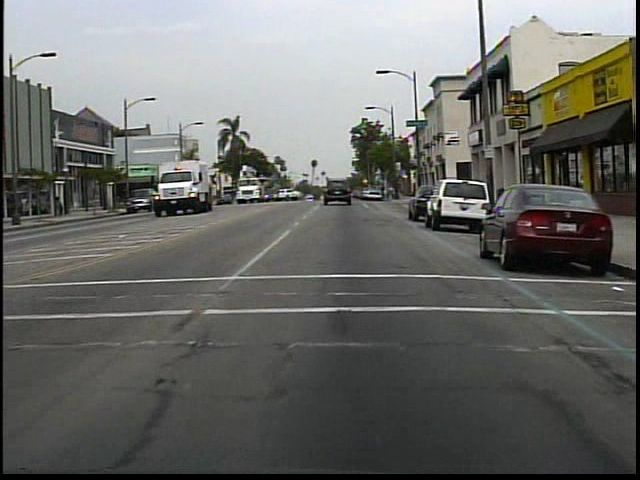person: (56, 193, 66, 218)
